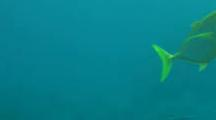Carangidae -Jacks-: (148, 1, 216, 84)
